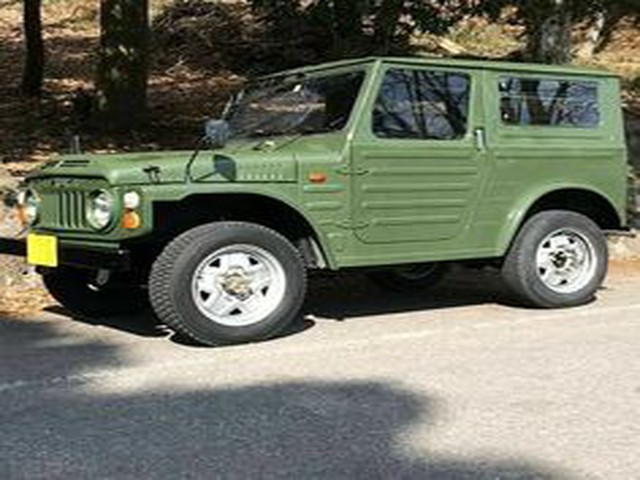Vehicle: (29, 49, 637, 337)
